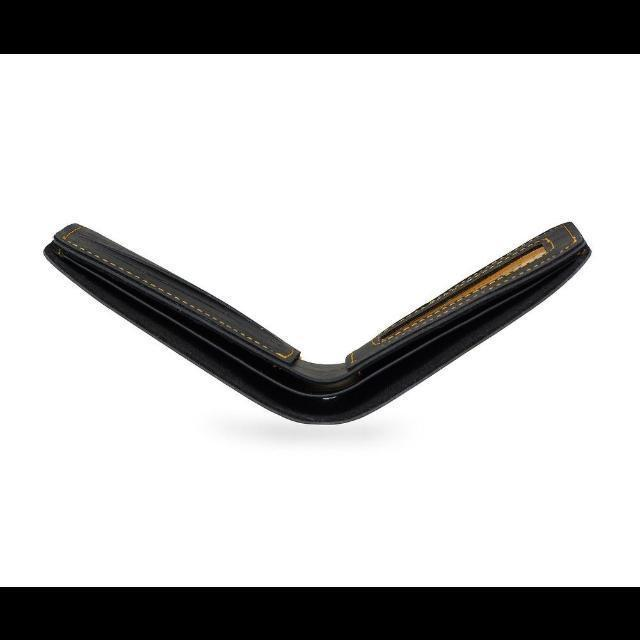Wallet: (46, 223, 590, 423)
